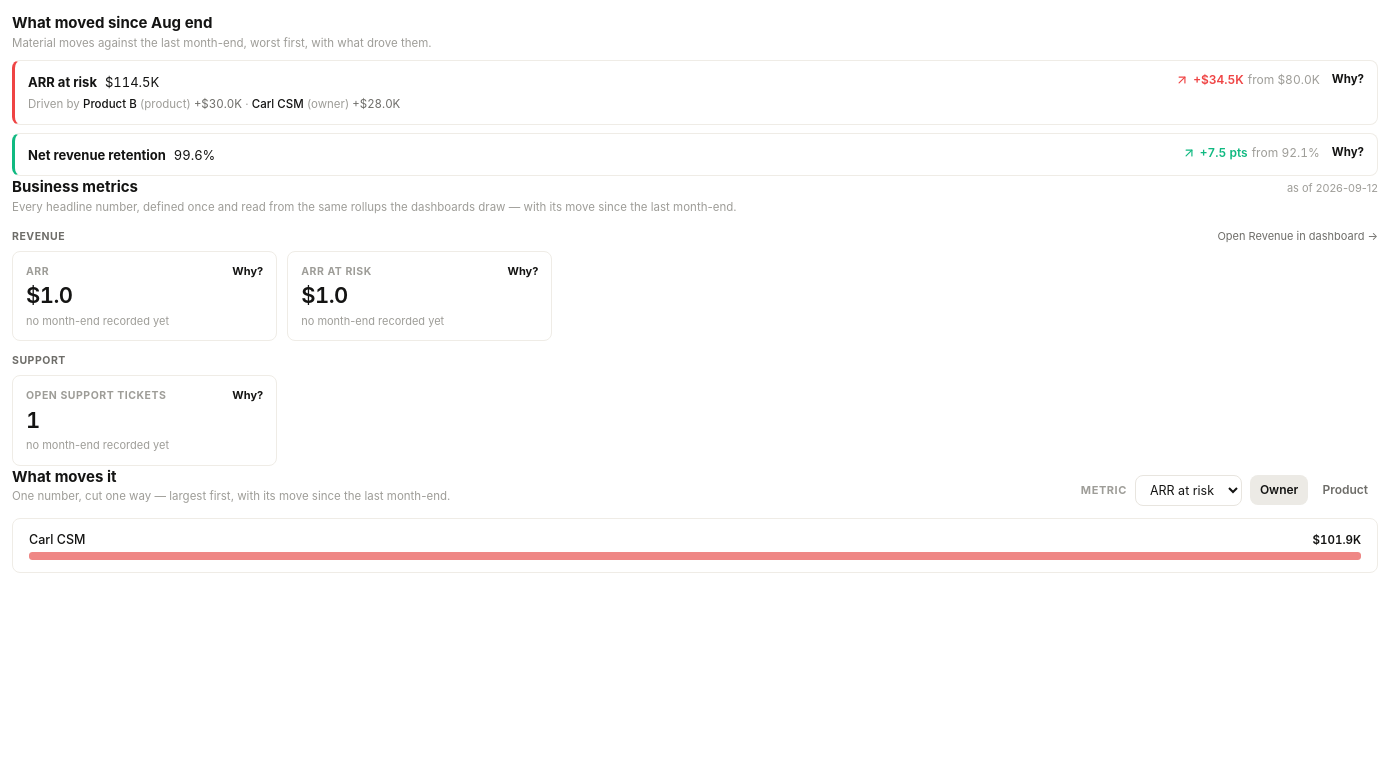
DriversPanel › draws the cut largest first with each member’s move
Expected: the dropdown labelled "Metric" is shown, [1135,474,1242,506]
Click the tab "Product" at point(1345, 490), box [1312,475,1378,505]
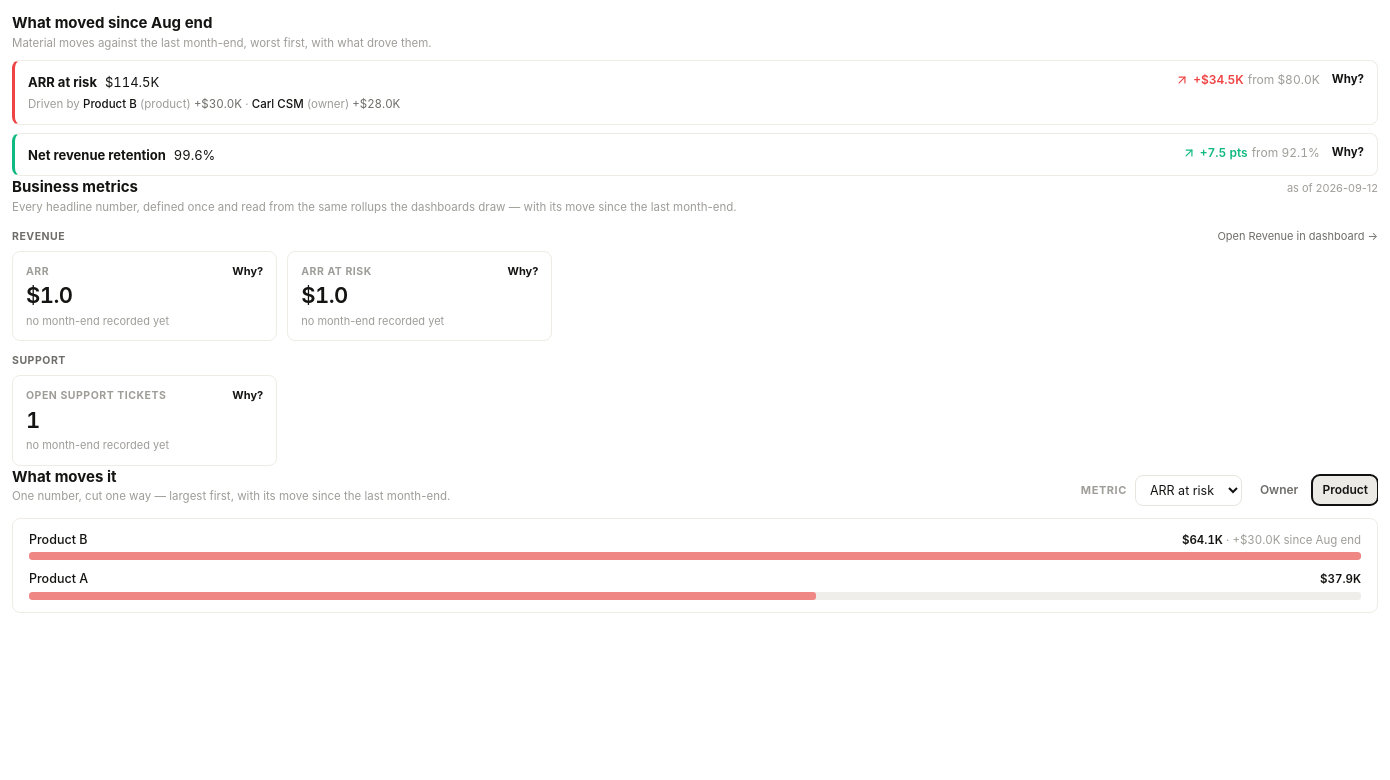
Expected: the text "$64.1K" is shown, [1182,532,1223,546]
Expected: the text "· +$30.0K since Aug end" is shown, [1223,532,1361,546]
